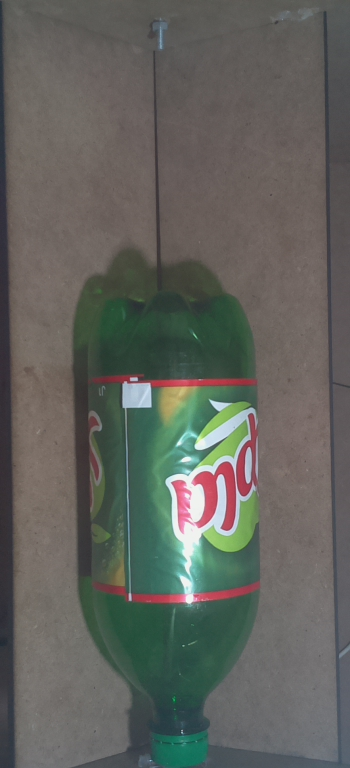Bouteille_1L: (74, 287, 269, 768)
